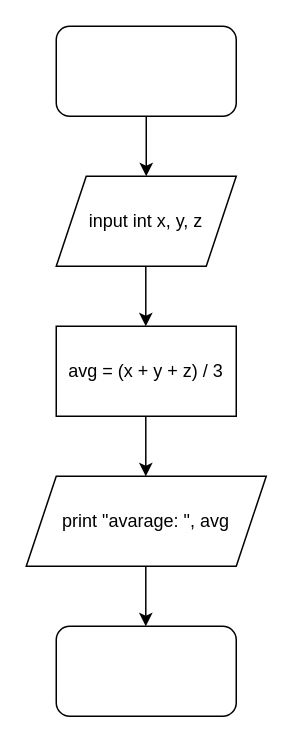
The diagram is 293 pixels wide and 743 high, and some of its shapes have lost their labels. The centre of each missing label's shape, as x and y in pixels:
Start: (145,70)
Stop: (145,670)
